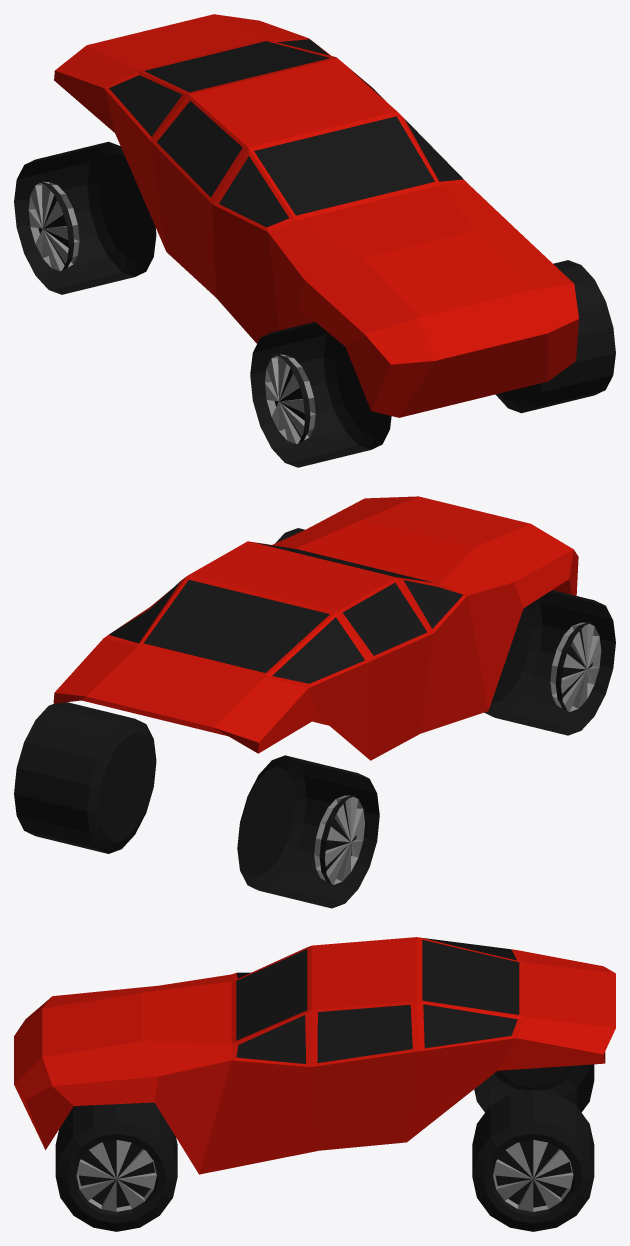
File: car.fbx
3 views of the same model, one above another, from view 1: azimuth 30°, elevation 25°; view 2: azimuth 150°, elevation 25°; view 3: azimuth 270°, elevation 25° (orthographic). The views are drawn at different scales.
Visible parts, largest first — view 1: Car; view 2: Car; view 3: Car.
Part boxes in pixels (x1,y1,x2,y2): Car: [14, 14, 615, 467]; Car: [14, 496, 615, 908]; Car: [14, 937, 615, 1231].
Bounding box in the file's own units: 151 × 105 × 289.
